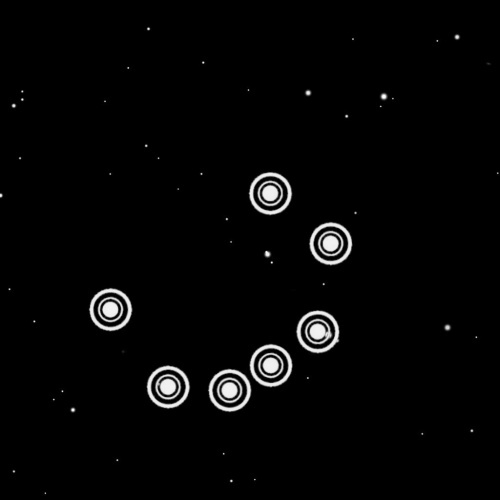corona_borealis: (83, 159, 357, 418)
